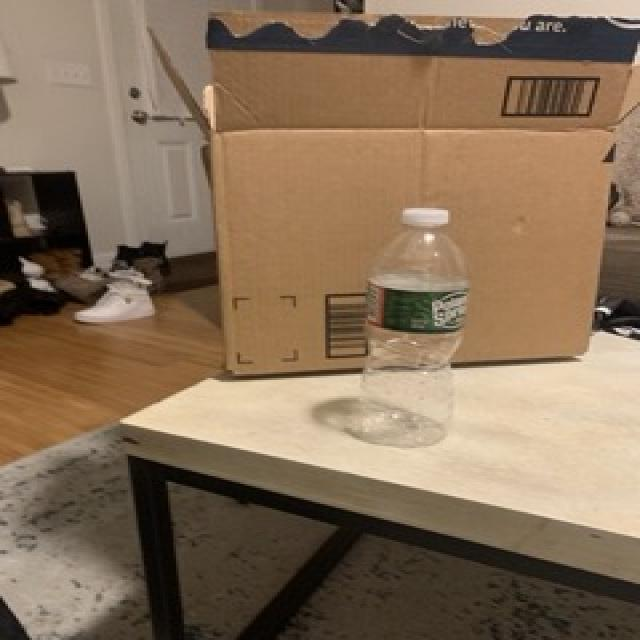water_bottle: (358, 202, 470, 448)
